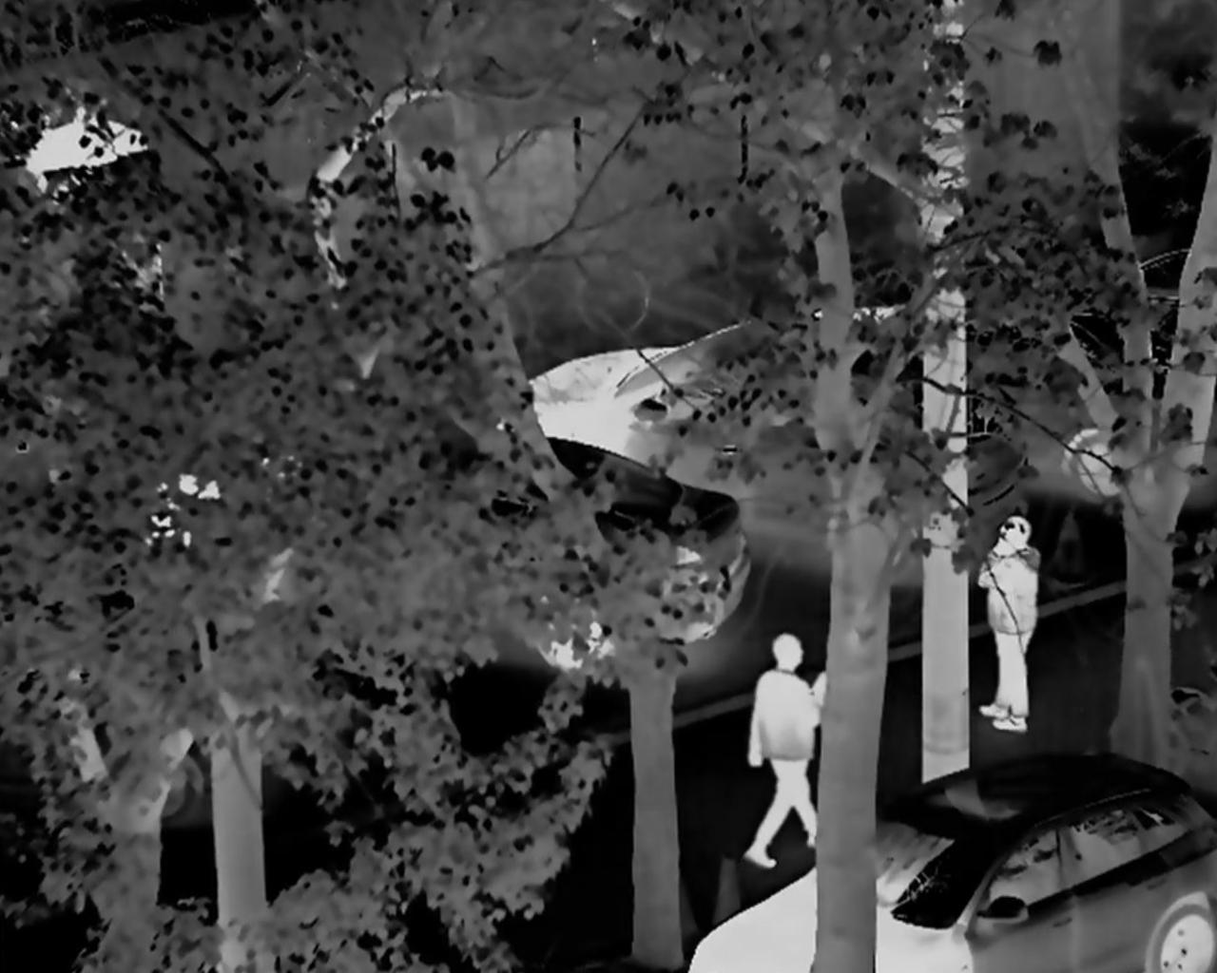person: (736, 633, 833, 874), (972, 518, 1051, 737)
